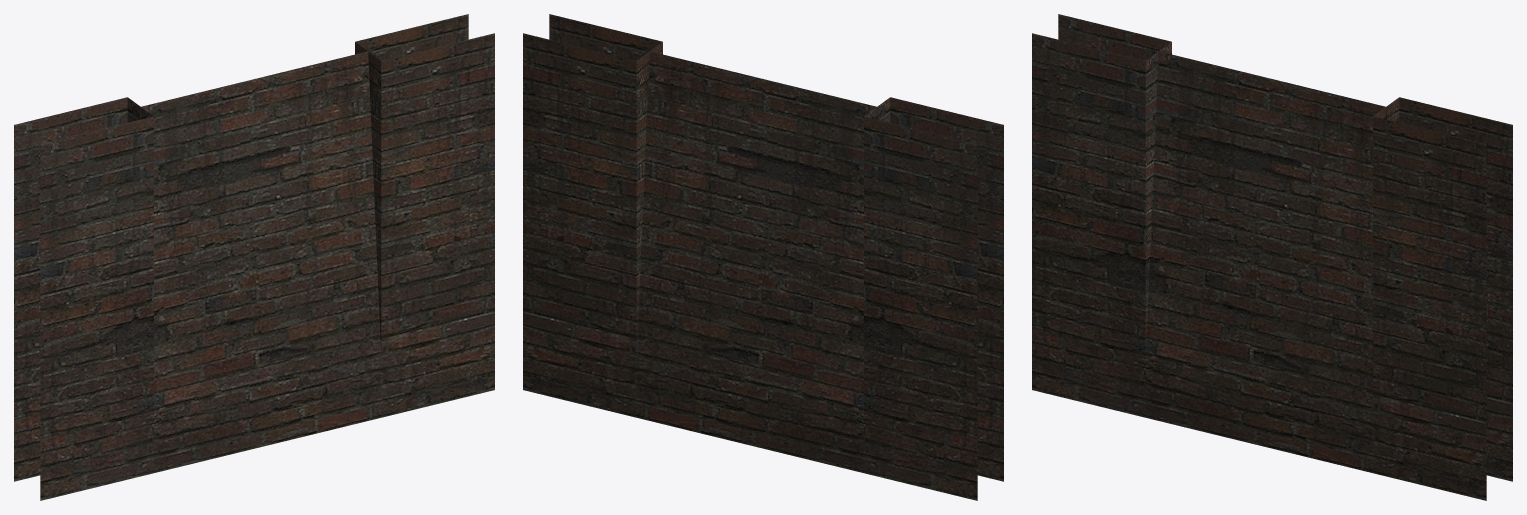
The model's file is wall_hs_1_t_1.obj.
The picture shows the model from 3 angles, left to right: view 1: azimuth 30°, elevation 25°; view 2: azimuth 150°, elevation 25°; view 3: azimuth 330°, elevation 25°; orthographic projection.
Parts seen in each view (by area): view 1: wall_hs_1_t_1; view 2: wall_hs_1_t_1; view 3: wall_hs_1_t_1.
Boxes of the visible parts, <box> form: wall_hs_1_t_1: <box>14,14,494,500</box>; wall_hs_1_t_1: <box>523,14,1003,500</box>; wall_hs_1_t_1: <box>1032,14,1512,500</box>.
Size of the model in its own units: 4 by 3 by 0.4.
